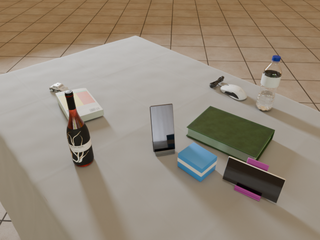book: (186, 106, 275, 163), (56, 88, 104, 121)
bottle: (64, 90, 94, 167), (256, 55, 282, 111)
box: (178, 143, 217, 182)
mouse: (221, 85, 247, 100)
phone: (223, 156, 286, 203), (150, 104, 175, 152)
toy_car: (49, 83, 69, 92)
